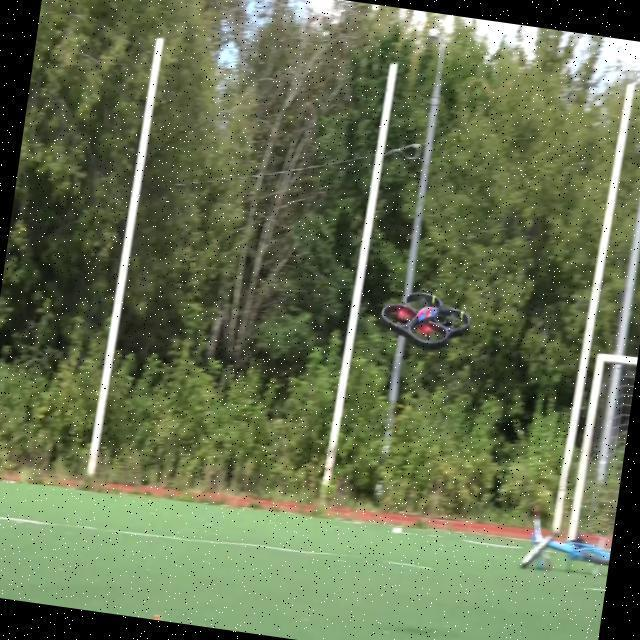Drons: (371, 280, 486, 364)
